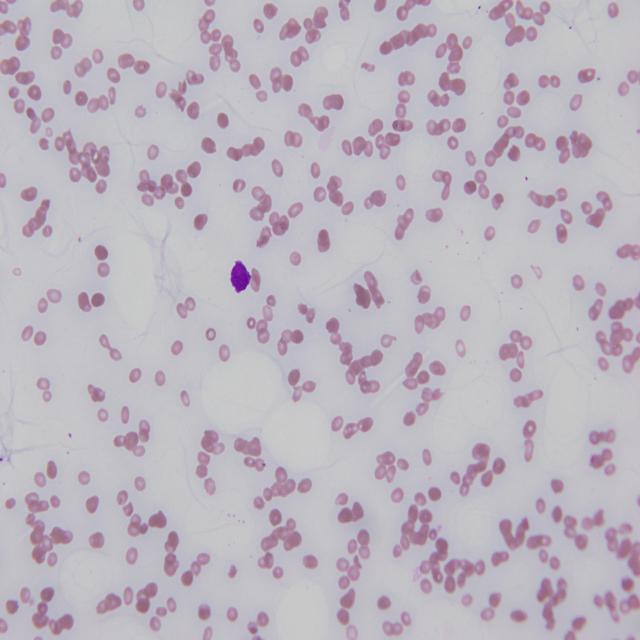cell: (230, 260, 250, 293)
